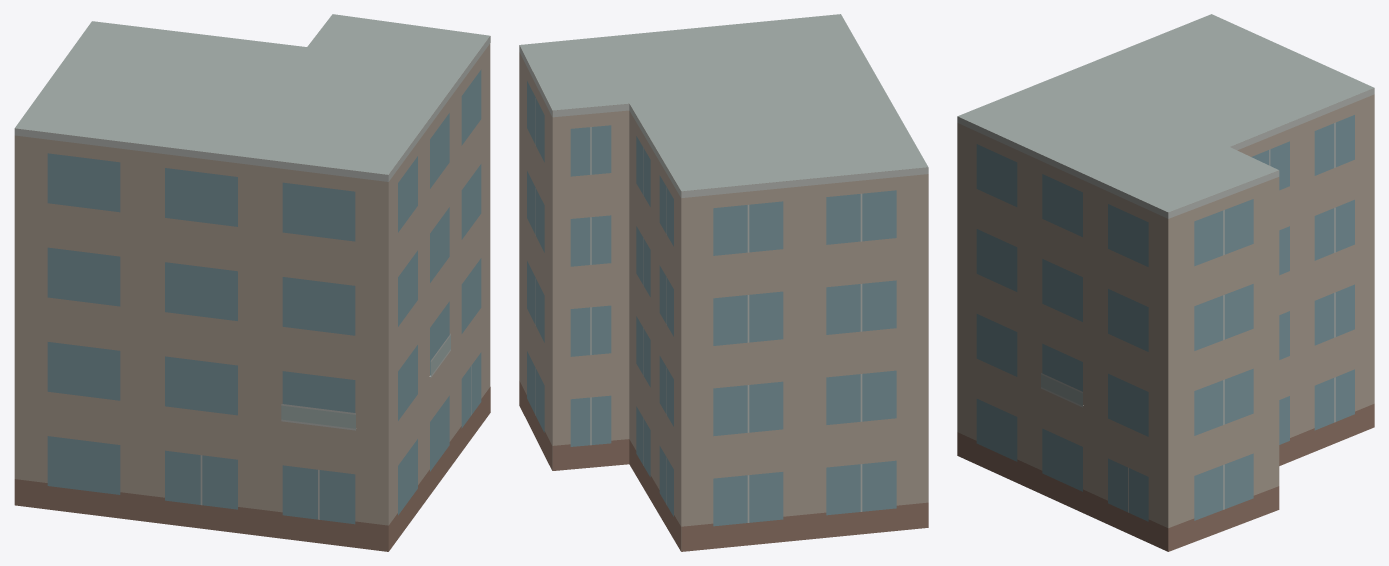
File: survey-upis-32595590.glb
3 views of the same model, side by side, from view 1: azimuth 30°, elevation 25°; view 2: azimuth 150°, elevation 25°; view 3: azimuth 270°, elevation 25° (orthographic). The views are drawn at different scales.
Visible parts, largest first — view 1: survey-upis-32595590.tmp; view 2: survey-upis-32595590.tmp; view 3: survey-upis-32595590.tmp.
Boxes of the visible parts, left/top/right/bottom form: survey-upis-32595590.tmp: left=14, top=14, right=490, bottom=551; survey-upis-32595590.tmp: left=519, top=14, right=928, bottom=551; survey-upis-32595590.tmp: left=957, top=14, right=1374, bottom=551.
Bounding box in the file's own units: 16.19 × 12.9 × 14.38.
